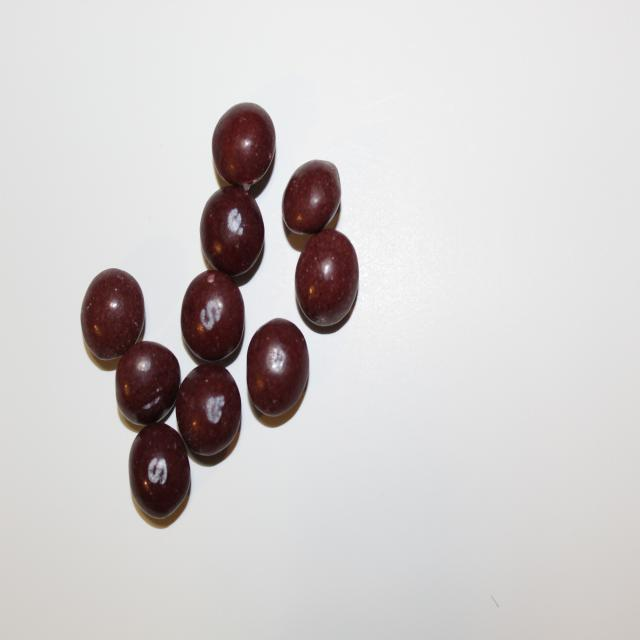smartie: (295, 228, 359, 326), (247, 318, 309, 416), (175, 364, 241, 456), (80, 268, 145, 360), (128, 423, 190, 519), (180, 269, 244, 361), (200, 185, 264, 275), (212, 101, 275, 190), (115, 341, 180, 425), (282, 159, 341, 233)
